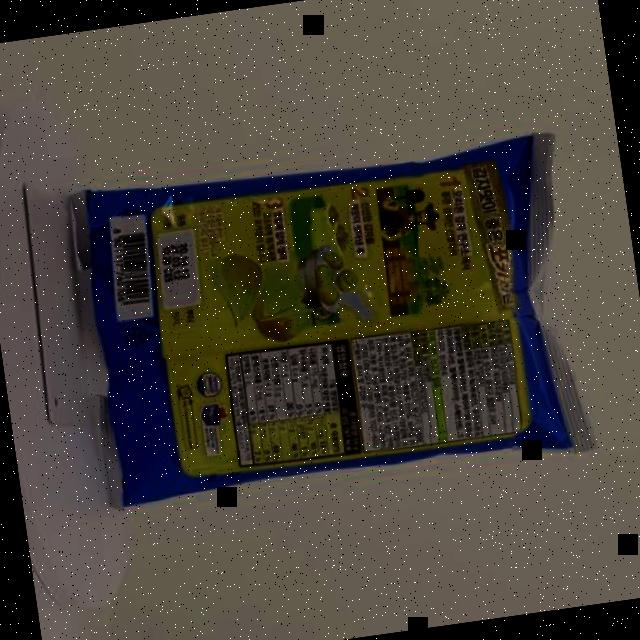snack_bag: (39, 105, 626, 550)
